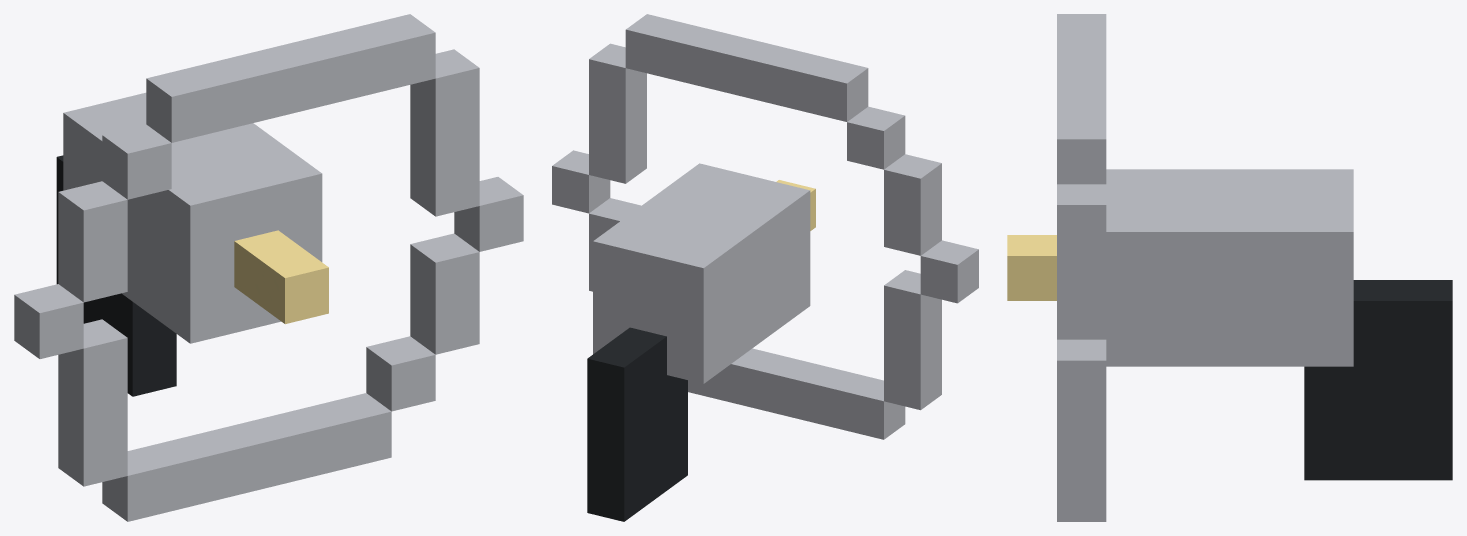
Rendered from vox_emitter_star.glb.
3 views of the same model, side by side, from view 1: azimuth 30°, elevation 25°; view 2: azimuth 150°, elevation 25°; view 3: azimuth 270°, elevation 25° (orthographic). The views are drawn at different scales.
Parts seen in each view (by area): view 1: vox_emitter_star; view 2: vox_emitter_star; view 3: vox_emitter_star.
Part boxes in pixels (box(x1,y1,x2,y2)): vox_emitter_star: box(14, 14, 523, 521); vox_emitter_star: box(552, 14, 978, 521); vox_emitter_star: box(1007, 14, 1452, 521).
Bounding box in the file's own units: 0.22 × 0.18 × 0.18.
